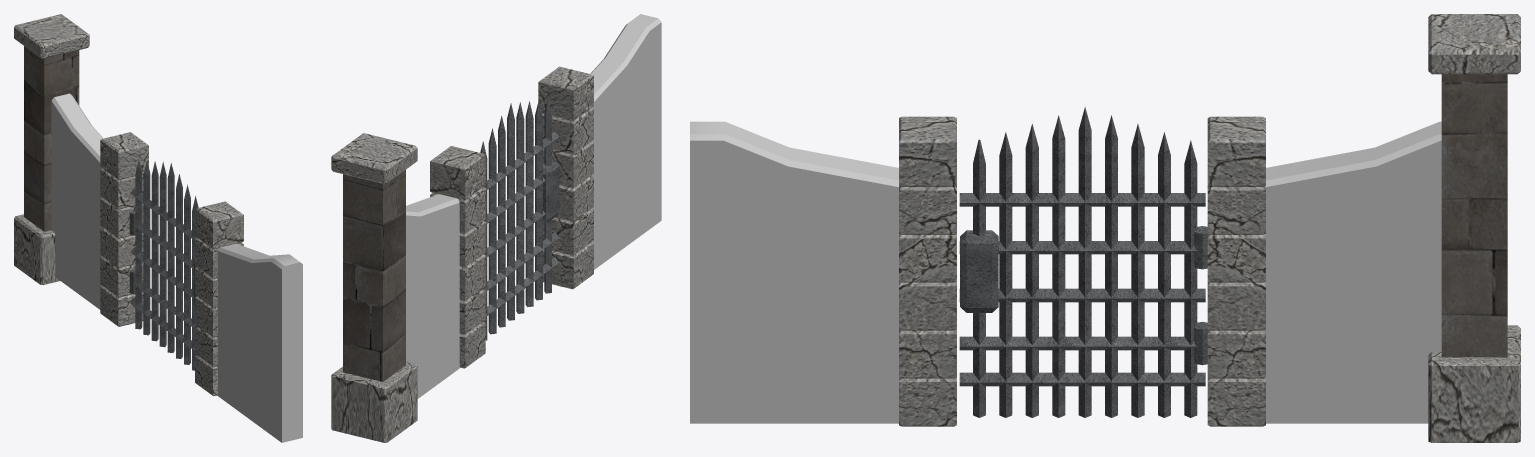
Rendered from GYGateSection.fbx.
3 views of the same model, side by side, from view 1: azimuth 30°, elevation 25°; view 2: azimuth 150°, elevation 25°; view 3: azimuth 270°, elevation 25° (orthographic). The views are drawn at different scales.
Parts seen in each view (by area): view 1: GraveyardGate, Gate; view 2: GraveyardGate, Gate; view 3: GraveyardGate, Gate.
Boxes of the visible parts, x1,y1,x2,y2 form: GraveyardGate: (14,14,302,442); Gate: (129,159,203,370); GraveyardGate: (331,14,661,442); Gate: (480,98,559,340); GraveyardGate: (690,14,1520,442); Gate: (959,106,1207,417).
Bounding box in the file's own units: 3.5 × 16.34 × 31.44.
